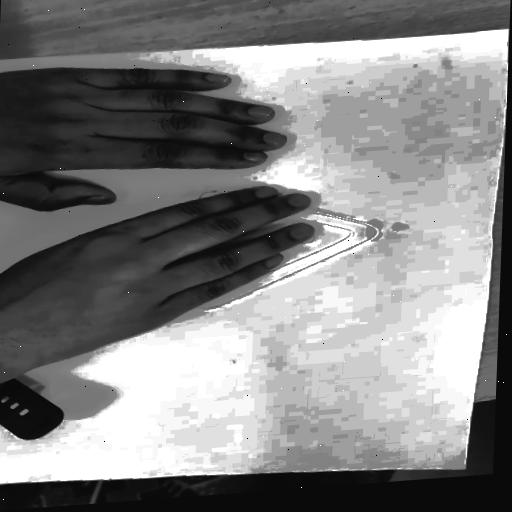signboard: (37, 172, 409, 324)
top_left: (455, 464, 470, 473)
